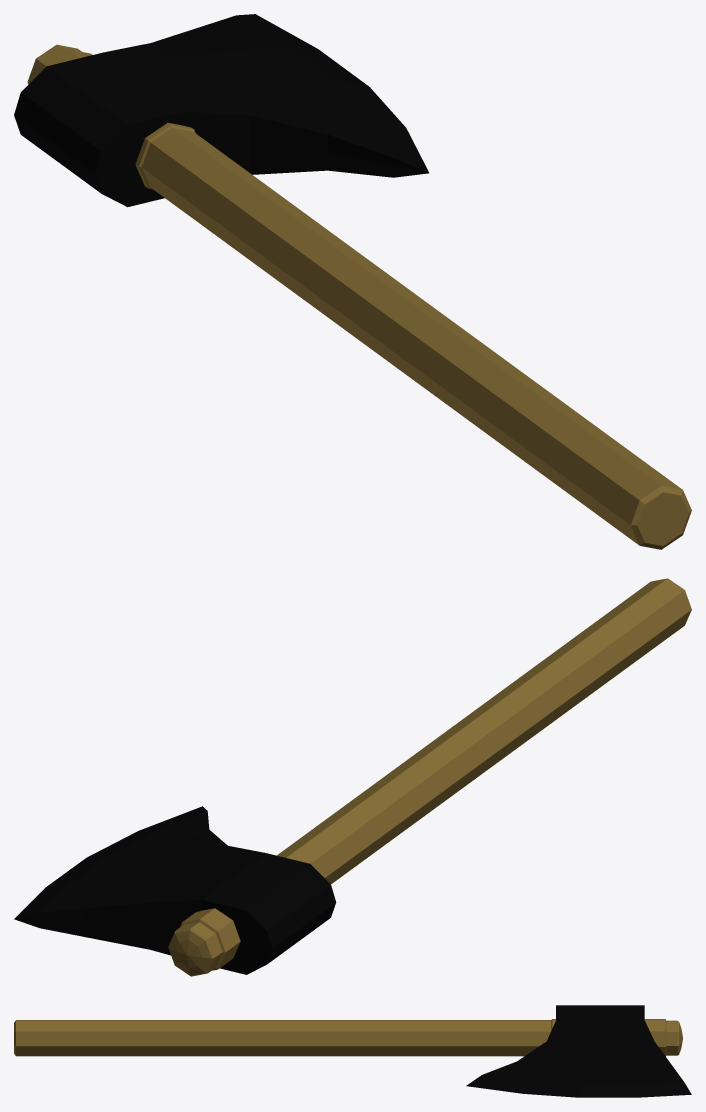
The model's file is Axe.fbx.
3 renders of one model, top to bottom at view 1: azimuth 30°, elevation 25°; view 2: azimuth 150°, elevation 25°; view 3: azimuth 270°, elevation 25°, orthographic. The views are drawn at different scales.
Visible parts, largest first — view 1: GAM7003_Axe; view 2: GAM7003_Axe; view 3: GAM7003_Axe.
Boxes of the visible parts, <box> form: GAM7003_Axe: <box>14,14,691,549</box>; GAM7003_Axe: <box>14,578,691,976</box>; GAM7003_Axe: <box>14,1005,691,1097</box>.
Size of the model in its own units: 27.97 by 7.38 by 101.
